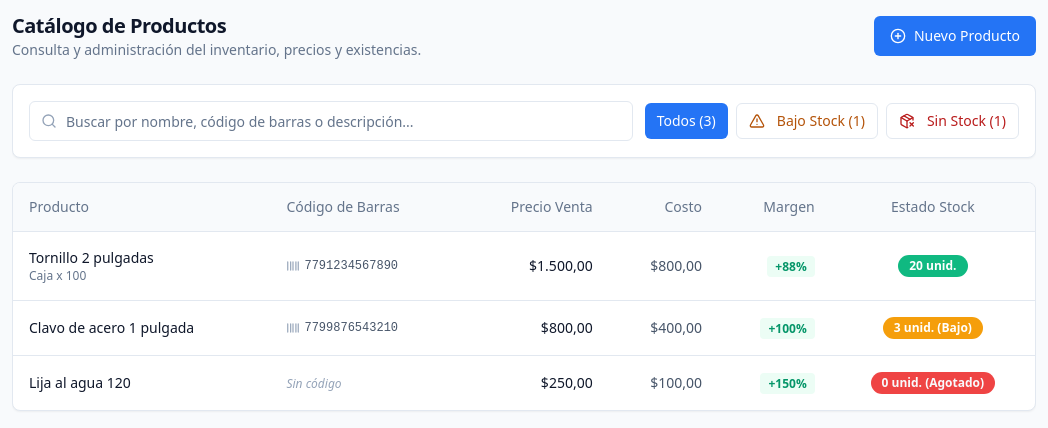
Test: CatalogView Component › should filter products when searching in the omnibox
The image size is (1048, 428).
In the field with placeholder "Buscar por nombre, código de barras o descripción...": (331, 121) x1=29 y1=101 x2=633 y2=141, type "Tornillo"
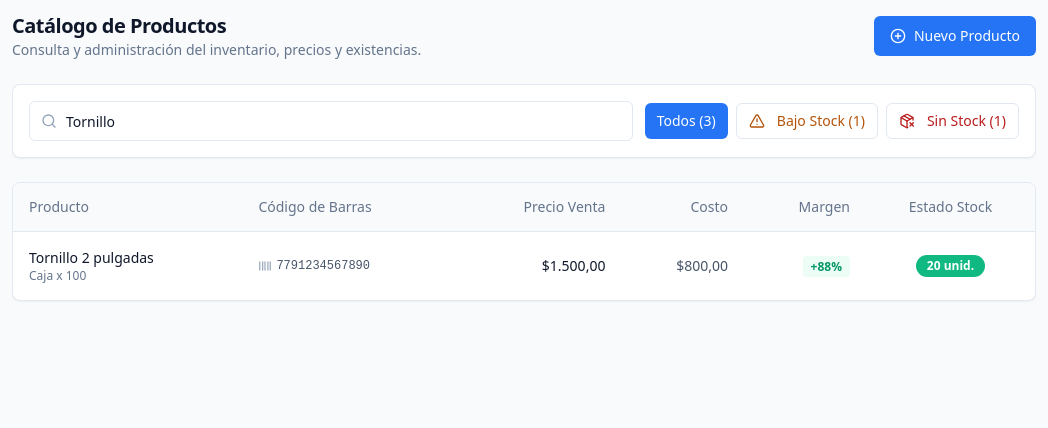
Check: the text "Tornillo 2 pulgadas" is shown, box x1=29 y1=248 x2=154 y2=266
Check: the text "Clavo de acero 1 pulgada" is gone
Check: the text "Lija al agua 120" is gone
